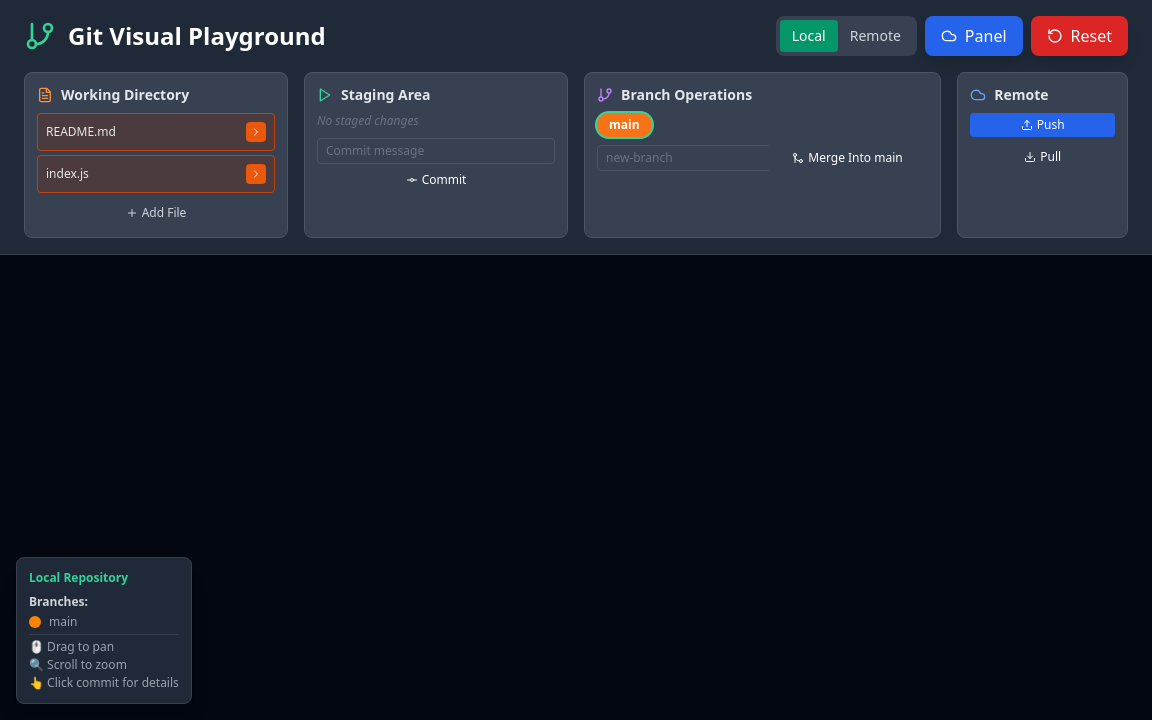
Test case: Git Visual Playground › Dialog Interactions › T9.2: Add File dialog closes on cancel
This screenshot has width=1152, height=720.
Click the button "Add File".
click(156, 213)  # box [37,201,275,225]
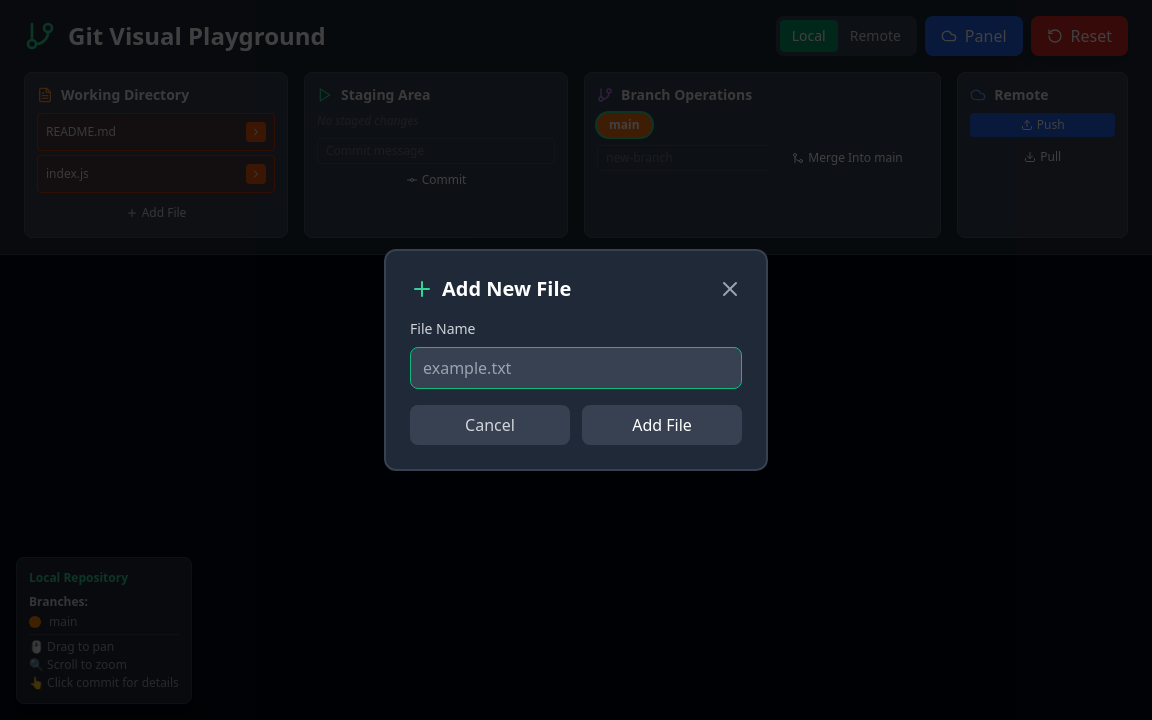
Click the button "Cancel".
click(490, 425)  # box [410,405,570,445]
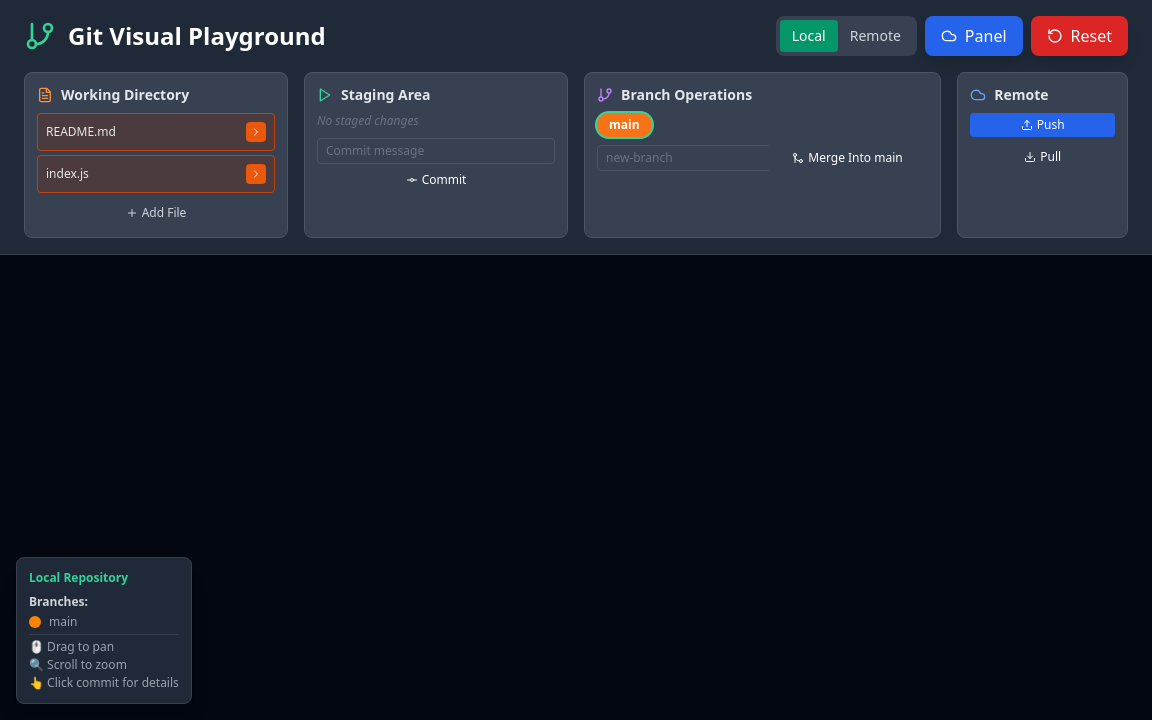
expect the heading "Add New File" is gone: met
